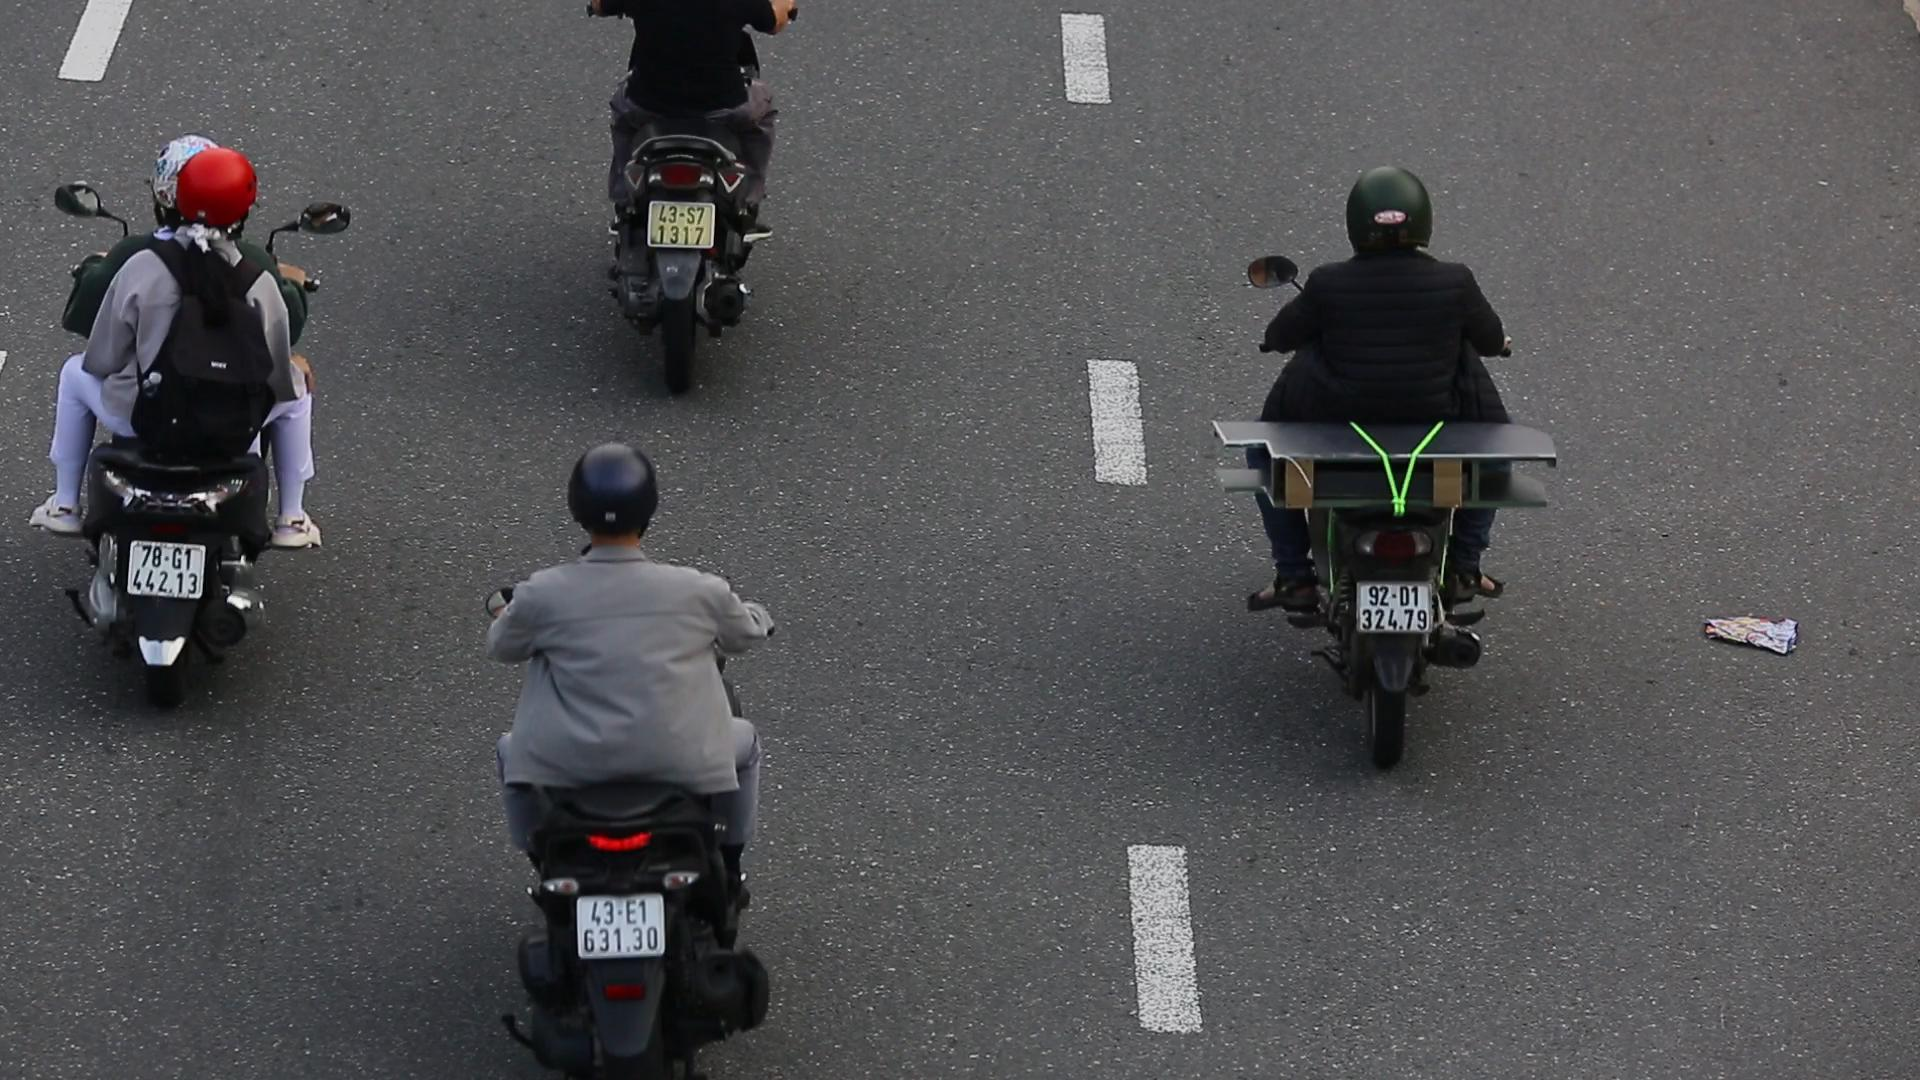motobike: (17, 91, 363, 725), (1196, 119, 1520, 774), (467, 419, 775, 1080)
